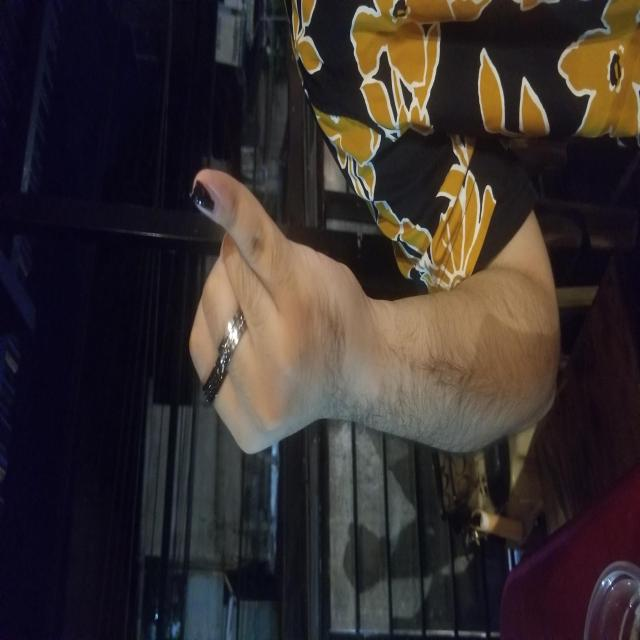J: (152, 133, 377, 519)
